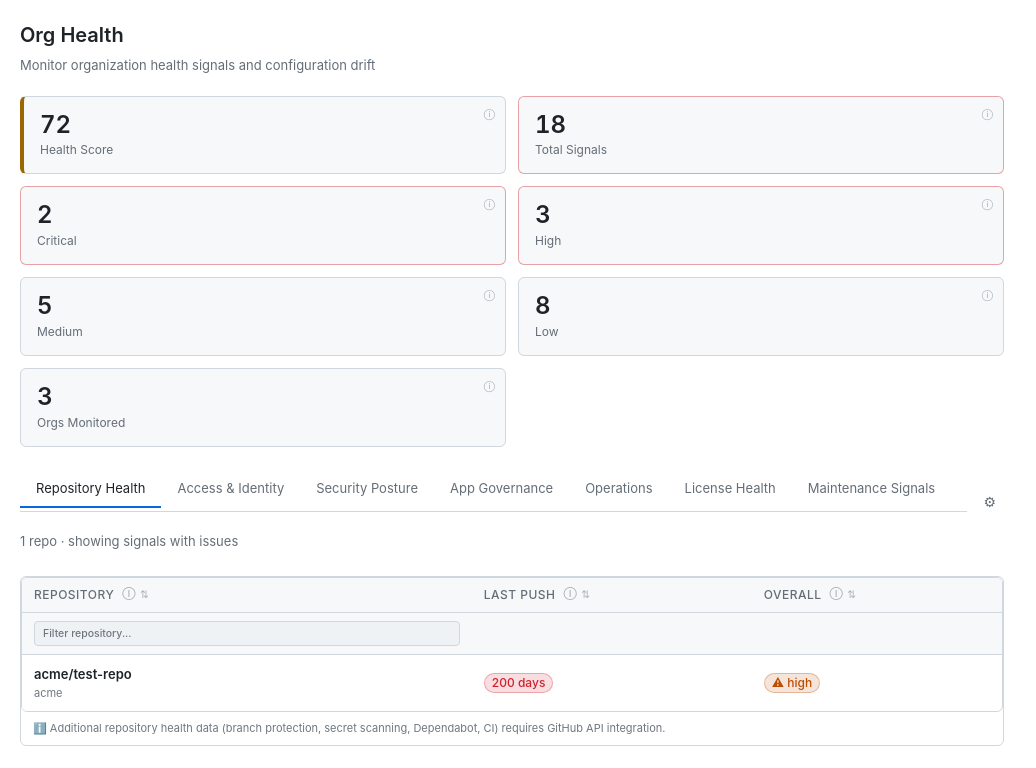
Test case: HealthPage › switches to Operations tab
Click the tab "Operations" at (619, 489), box [569, 471, 669, 508]
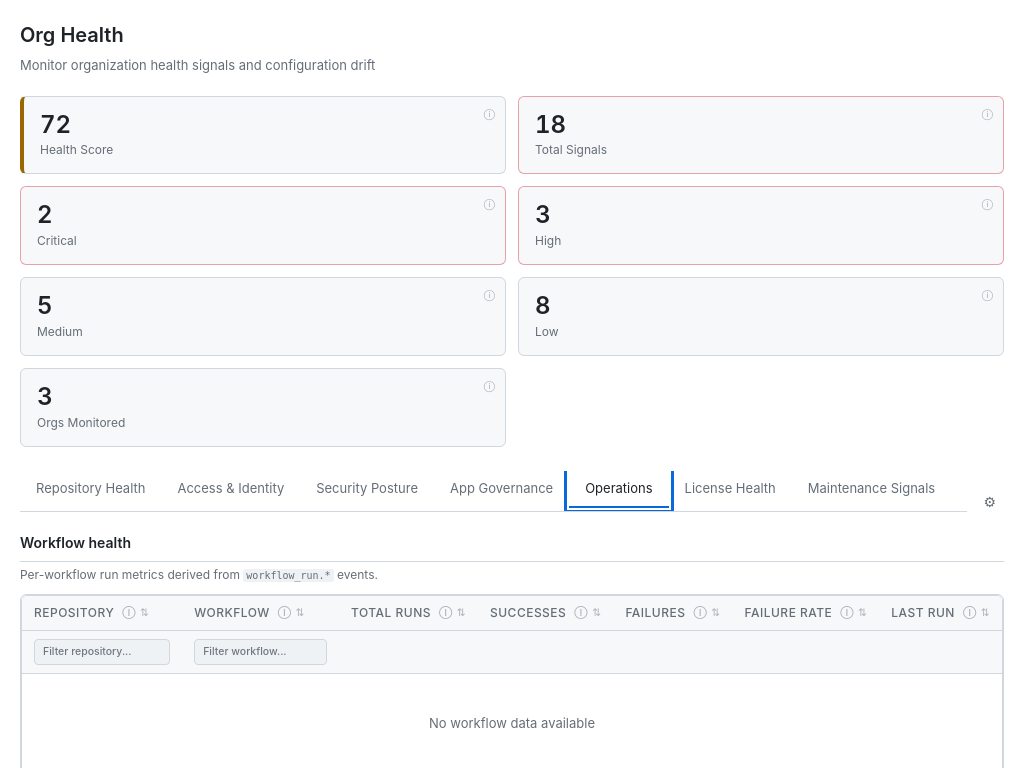
Result: the text "Per-workflow run metrics derived from workflow_run.* events." is shown at [20, 567, 378, 582]
